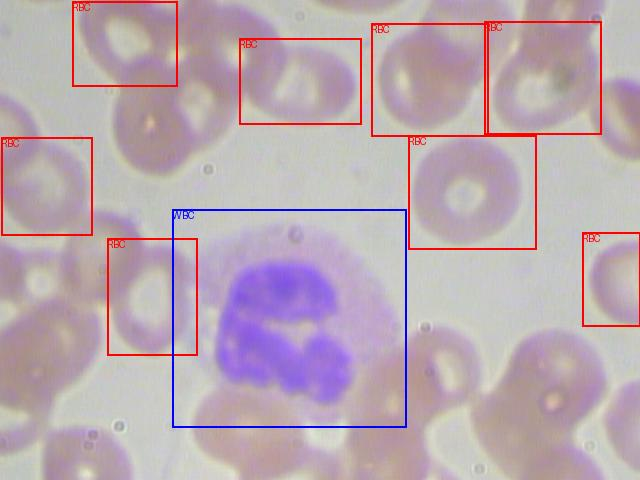RBC: (408, 135, 536, 249), (371, 23, 488, 136), (484, 21, 601, 134), (107, 238, 197, 355), (239, 38, 361, 124), (72, 1, 177, 86), (1, 137, 92, 235), (582, 232, 640, 326)
WBC: (172, 209, 406, 427)
